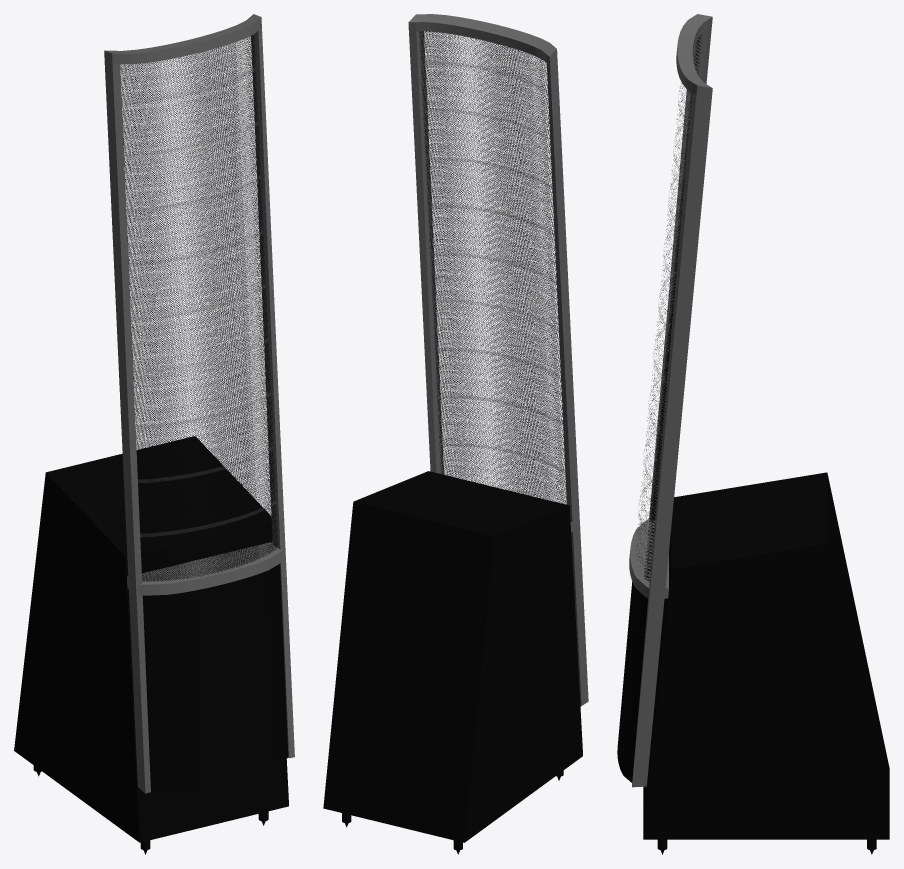
File: martinLoganESLtestTextured.glb
The picture shows the model from 3 angles, left to right: view 1: azimuth 30°, elevation 25°; view 2: azimuth 150°, elevation 25°; view 3: azimuth 270°, elevation 25°; orthographic projection. The views are drawn at different scales.
Visible parts, largest first — view 1: Base, Frame, Rib thingy; view 2: Base, Frame, Rib thingy; view 3: Base, Frame, Rib thingy.
Part boxes in pixels (x1=…): Base: x1=14, y1=34, x2=288, y2=854; Frame: x1=104, y1=14, x2=294, y2=793; Rib thingy: x1=122, y1=68, x2=275, y2=536; Base: x1=323, y1=31, x2=582, y2=854; Frame: x1=408, y1=14, x2=588, y2=706; Rib thingy: x1=421, y1=61, x2=564, y2=472; Base: x1=635, y1=35, x2=889, y2=854; Frame: x1=617, y1=14, x2=712, y2=787; Rib thingy: x1=639, y1=66, x2=696, y2=537.
Bounding box in the file's own units: 0.2681 × 1.36 × 0.4311.
Materials: 5 (1 with a texture image).
